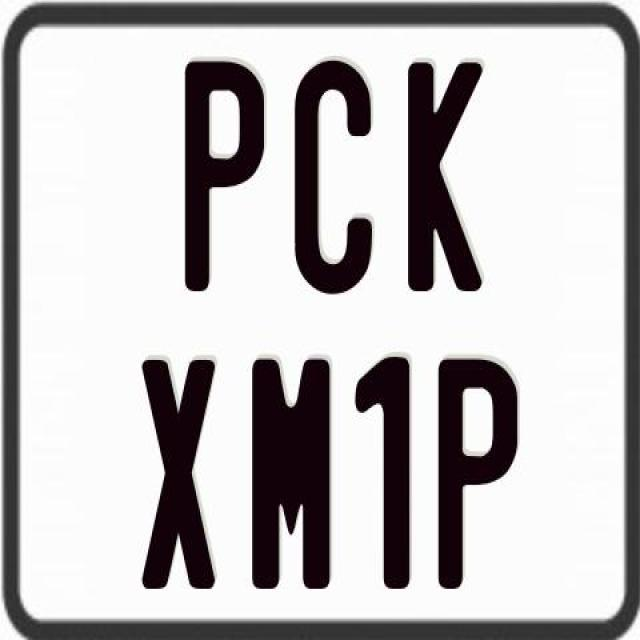1: (354, 357, 416, 589)
C: (292, 57, 375, 300)
K: (406, 59, 488, 291)
M: (248, 358, 327, 596)
P: (436, 354, 519, 590), (182, 58, 262, 298)
X: (140, 360, 215, 590)
